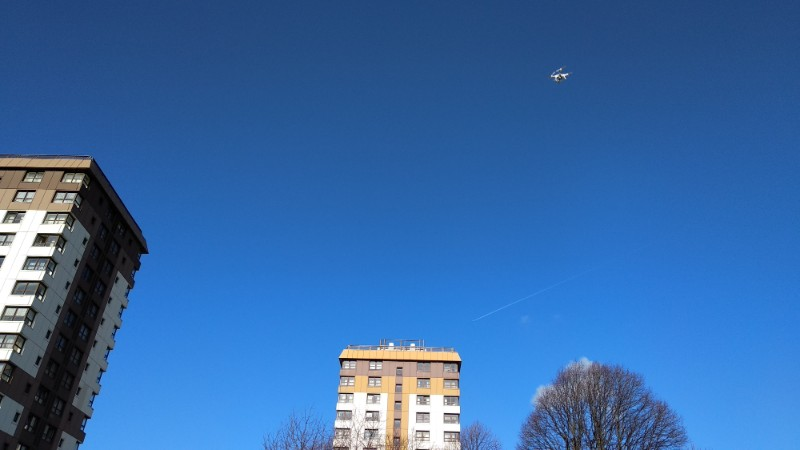drone: (549, 64, 572, 87)
